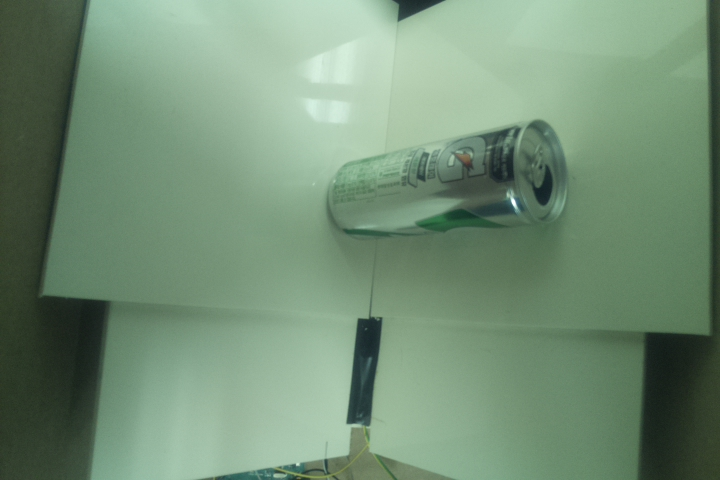can: (326, 118, 572, 243)
